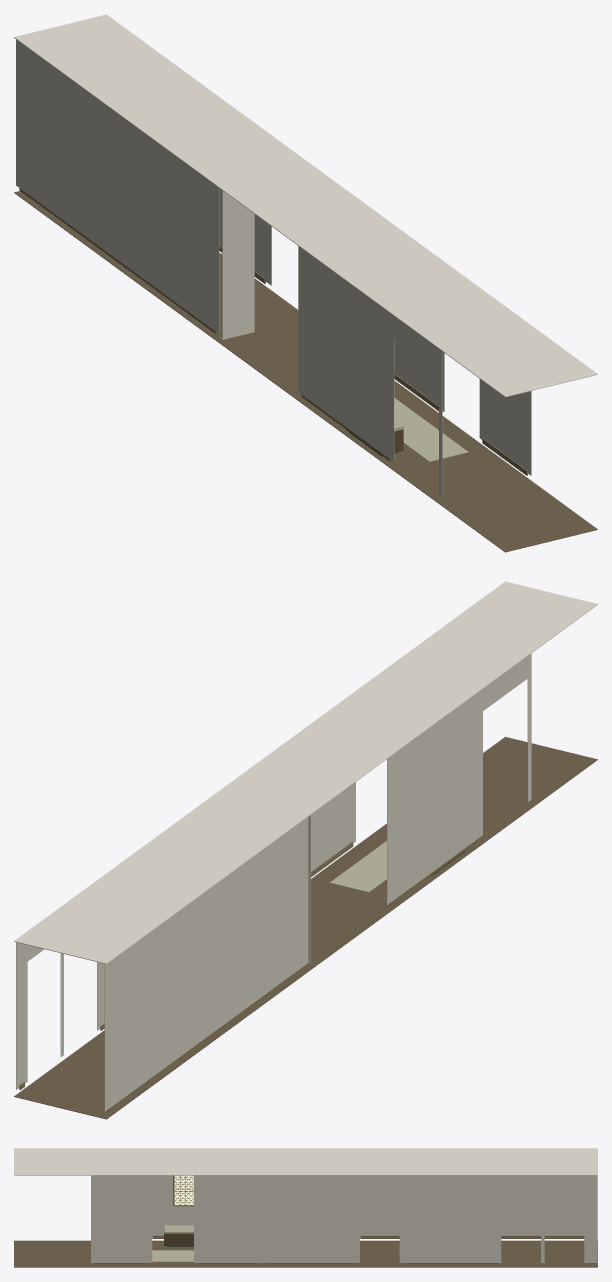
Rendered from corridor-3.glb.
The picture shows the model from 3 angles, top to bottom: view 1: azimuth 30°, elevation 25°; view 2: azimuth 150°, elevation 25°; view 3: azimuth 270°, elevation 25°; orthographic projection. The views are drawn at different scales.
Visible parts, largest first — view 1: DESIGN | Entrance coordinated ceiling, DESIGN | Entrance paired wall finish, DESIGN | Entrance floor finish, DESIGN | Entrance paired wall finish.003, DESIGN | Arch approach finish, DESIGN | Entrance paired wall finish.013, DESIGN | Entrance quiet runner, DESIGN | Entrance paired wall finish.012, DESIGN | Entrance paired wall finish.006, DESIGN | Entrance paired wall finish.002; view 2: DESIGN | Entrance coordinated ceiling, DESIGN | Entrance paired wall finish, DESIGN | Entrance floor finish, DESIGN | Entrance paired wall finish.003, DESIGN | Entrance paired wall finish.012, DESIGN | Entrance paired wall finish.005, DESIGN | Entrance quiet runner, DESIGN | Entrance paired wall finish.002, DESIGN | Entrance paired wall finish.001; view 3: DESIGN | Entrance coordinated ceiling, DESIGN | Entrance paired wall finish.006, DESIGN | Entrance paired wall finish.009, DESIGN | Entrance floor finish, DESIGN | Entrance paired wall finish.012, DESIGN | Entrance paired wall finish, DESIGN | Entrance paired wall finish.013, DESIGN | Entrance paired wall finish.003, DESIGN | Entrance paired wall finish.005, DESIGN | Entrance paired wall finish.007, DESIGN | Entrance paired wall finish.010, DESIGN | Entrance paired wall finish.004 (+8 smaller).
Part boxes in pixels (x1,y1,x2,y2): DESIGN | Entrance coordinated ceiling: (14,14,597,397); DESIGN | Entrance paired wall finish: (16,39,219,333); DESIGN | Entrance floor finish: (14,191,597,552); DESIGN | Entrance paired wall finish.003: (298,246,394,461); DESIGN | Arch approach finish: (222,190,254,339); DESIGN | Entrance paired wall finish.013: (479,379,531,475); DESIGN | Entrance quiet runner: (394,398,468,461); DESIGN | Entrance paired wall finish.012: (394,339,444,411); DESIGN | Entrance paired wall finish.006: (219,188,268,283); DESIGN | Entrance paired wall finish.002: (394,316,438,370); DESIGN | Entrance coordinated ceiling: (14,581,597,964); DESIGN | Entrance paired wall finish: (104,817,308,1111); DESIGN | Entrance floor finish: (14,737,597,1119); DESIGN | Entrance paired wall finish.003: (387,689,482,904); DESIGN | Entrance paired wall finish.012: (311,782,355,871); DESIGN | Entrance paired wall finish.005: (16,942,27,1089); DESIGN | Entrance quiet runner: (329,841,386,892); DESIGN | Entrance paired wall finish.002: (483,656,527,710); DESIGN | Entrance paired wall finish.001: (527,653,531,801); DESIGN | Entrance coordinated ceiling: (14,1148,597,1175); DESIGN | Entrance paired wall finish.006: (402,1175,501,1262); DESIGN | Entrance paired wall finish.009: (262,1175,359,1262); DESIGN | Entrance floor finish: (14,1240,597,1267); DESIGN | Entrance paired wall finish.012: (194,1175,262,1262); DESIGN | Entrance paired wall finish: (360,1176,584,1236); DESIGN | Entrance paired wall finish.013: (91,1175,152,1262); DESIGN | Entrance paired wall finish.003: (152,1175,193,1236); DESIGN | Entrance paired wall finish.005: (584,1175,597,1262); DESIGN | Entrance paired wall finish.007: (501,1175,540,1191); DESIGN | Entrance paired wall finish.010: (360,1175,399,1191); DESIGN | Entrance paired wall finish.004: (545,1175,584,1191).
Size of the model in its own units: 1.7 by 2.73 by 15.61.
